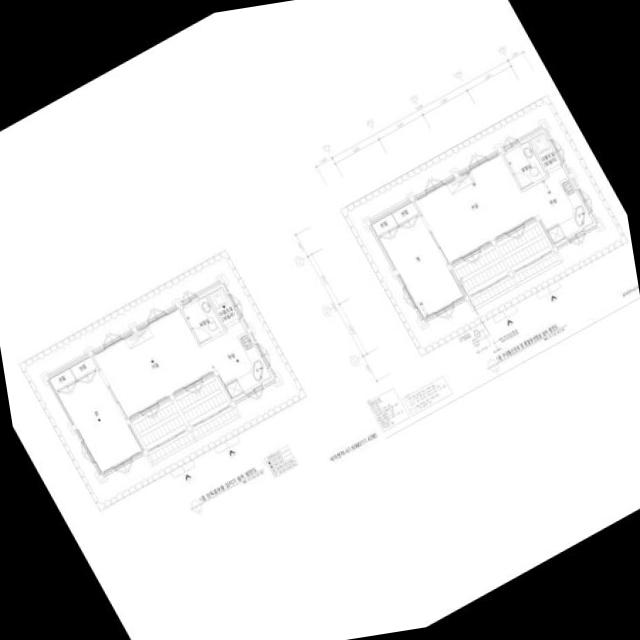background: (0, 0, 640, 640)
space_bedroom: (371, 200, 464, 321), (49, 355, 143, 472)
space_kitchen: (522, 166, 594, 245), (201, 321, 272, 399)
space_living_room: (415, 152, 536, 265), (93, 308, 214, 418)
space_multipurpose_space: (529, 132, 563, 174), (208, 287, 241, 329)
space_toilet: (504, 141, 547, 189), (182, 296, 225, 344)
